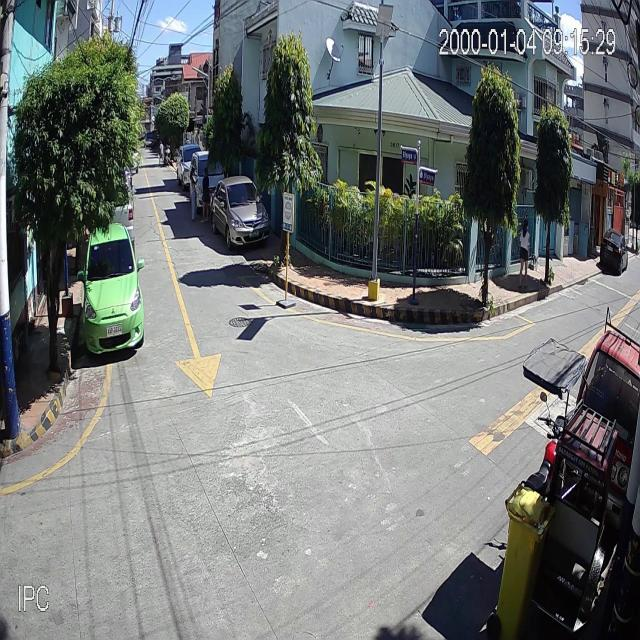standing: (188, 166, 201, 221)
walking: (519, 218, 531, 290), (202, 166, 212, 223), (158, 139, 166, 165)
